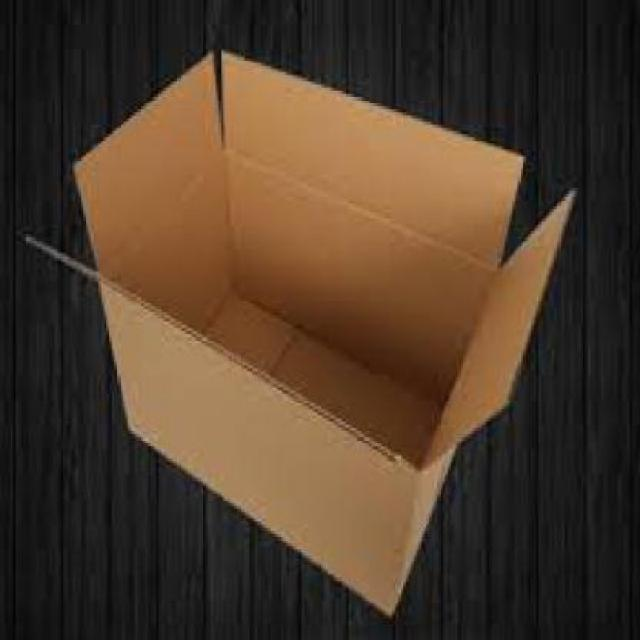cardboard: (26, 46, 580, 619)
